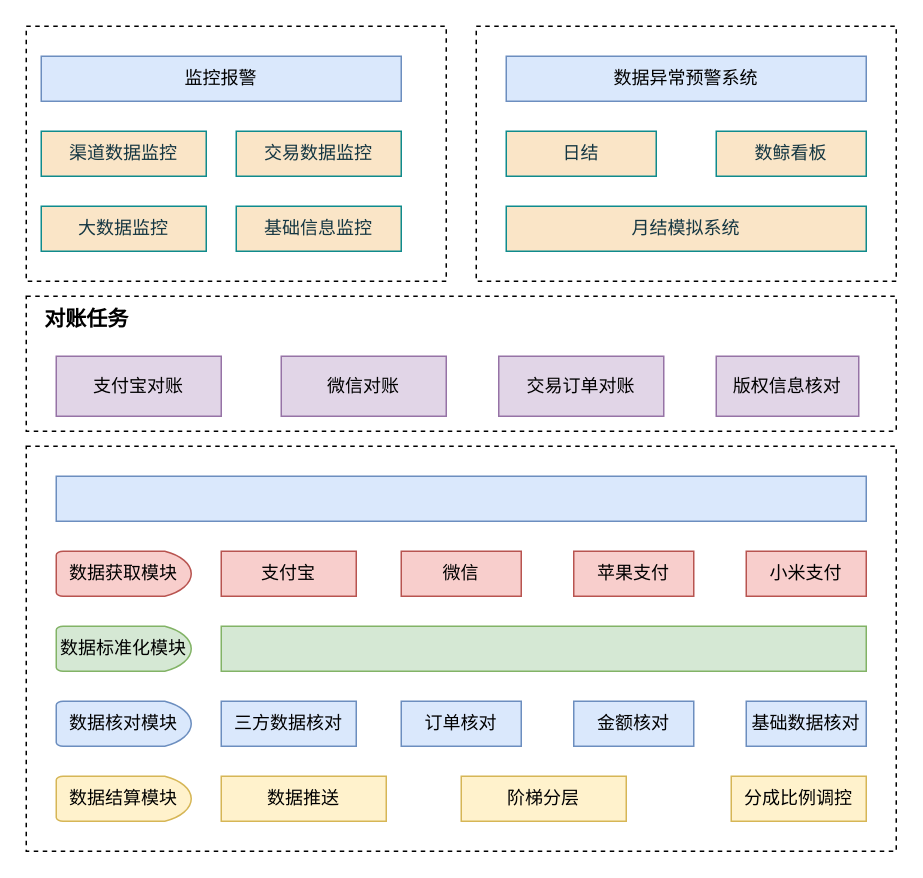
Some shapes in this 923 by 878 pixel diagram are drawn without their labels. The box of each missing label's shape, as (x1, y1, x2, y2) in pixels:
数据处理模块化: (55, 475, 866, 521)
账单解析: (220, 625, 866, 671)
